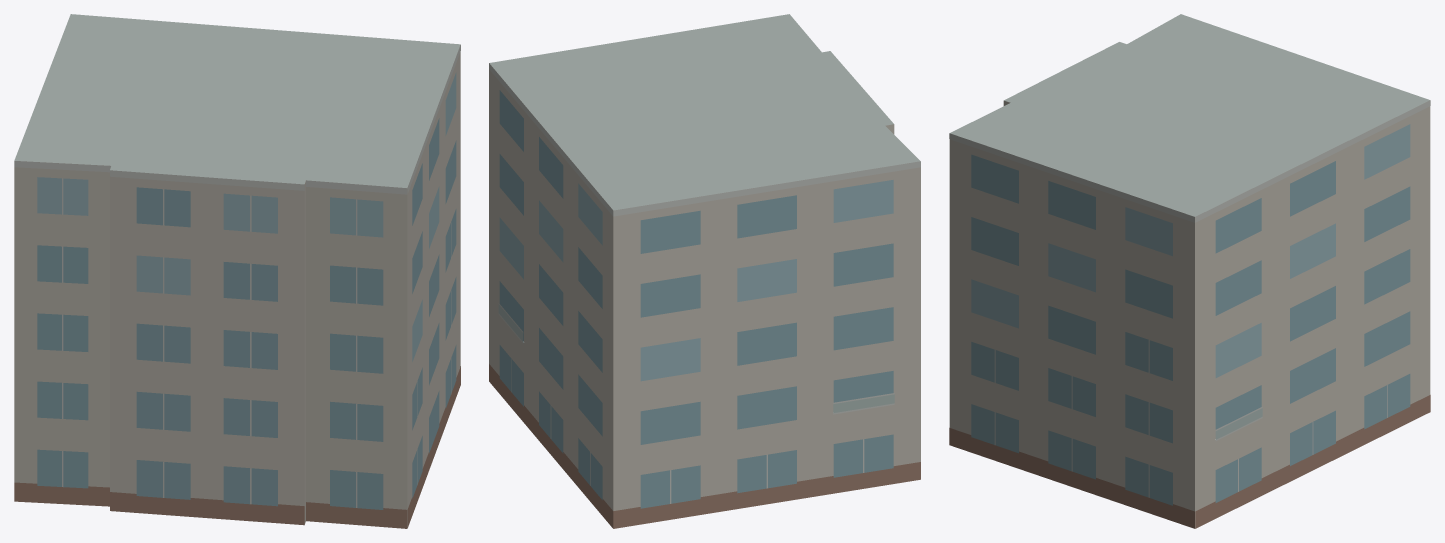
File: survey-upis-32955752.glb
The picture shows the model from 3 angles, left to right: view 1: azimuth 30°, elevation 25°; view 2: azimuth 150°, elevation 25°; view 3: azimuth 270°, elevation 25°; orthographic projection. The views are drawn at different scales.
Parts seen in each view (by area): view 1: survey-upis-32955752.tmp; view 2: survey-upis-32955752.tmp; view 3: survey-upis-32955752.tmp.
Boxes of the visible parts, x1,y1,x2,y2 form: survey-upis-32955752.tmp: (14,14,460,528); survey-upis-32955752.tmp: (489,14,920,528); survey-upis-32955752.tmp: (949,14,1430,528).
Size of the model in its own units: 17.87 by 12.8 by 17.89.
